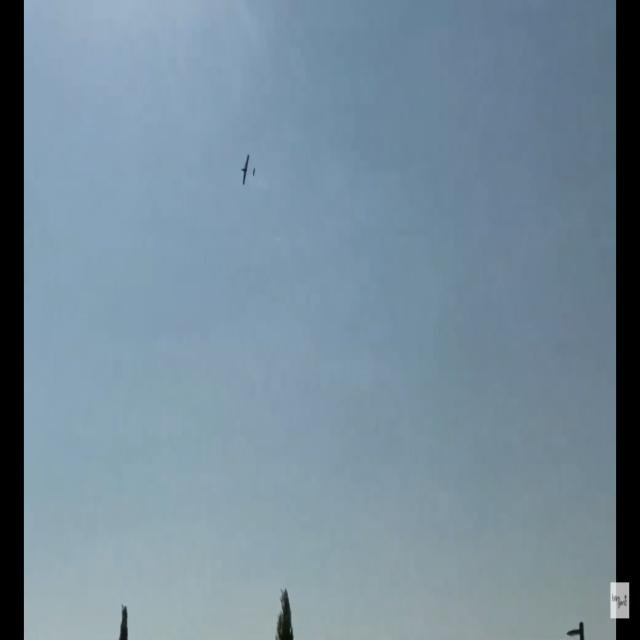iha: (240, 154, 256, 186)
